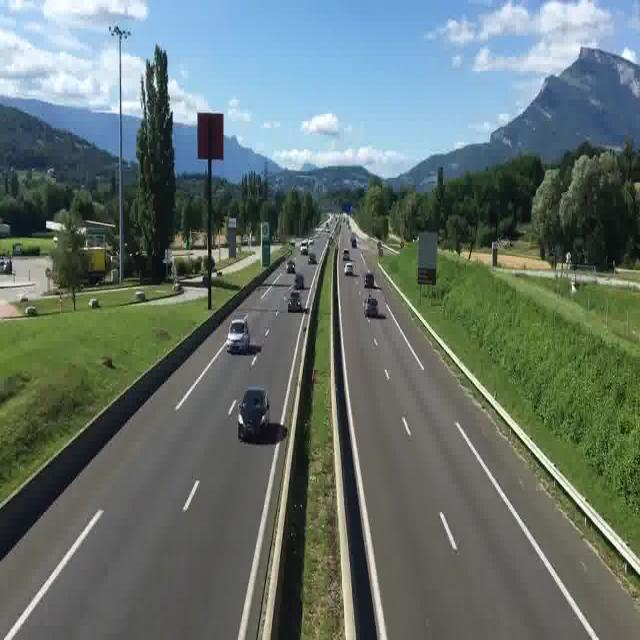Car: (234, 384, 275, 448), (225, 310, 255, 359), (364, 290, 381, 326), (286, 286, 305, 316), (292, 269, 308, 294), (359, 268, 376, 289), (281, 256, 297, 277), (304, 248, 320, 269), (343, 258, 356, 282), (340, 244, 352, 270)
